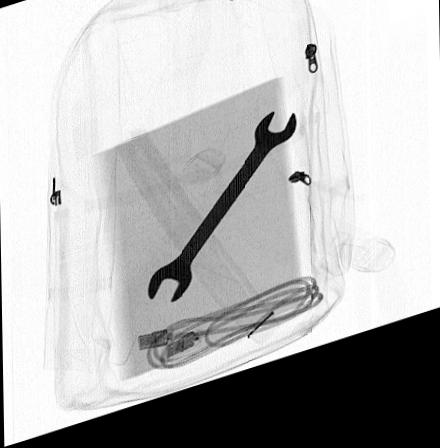Wrench: (144, 125, 297, 313)
